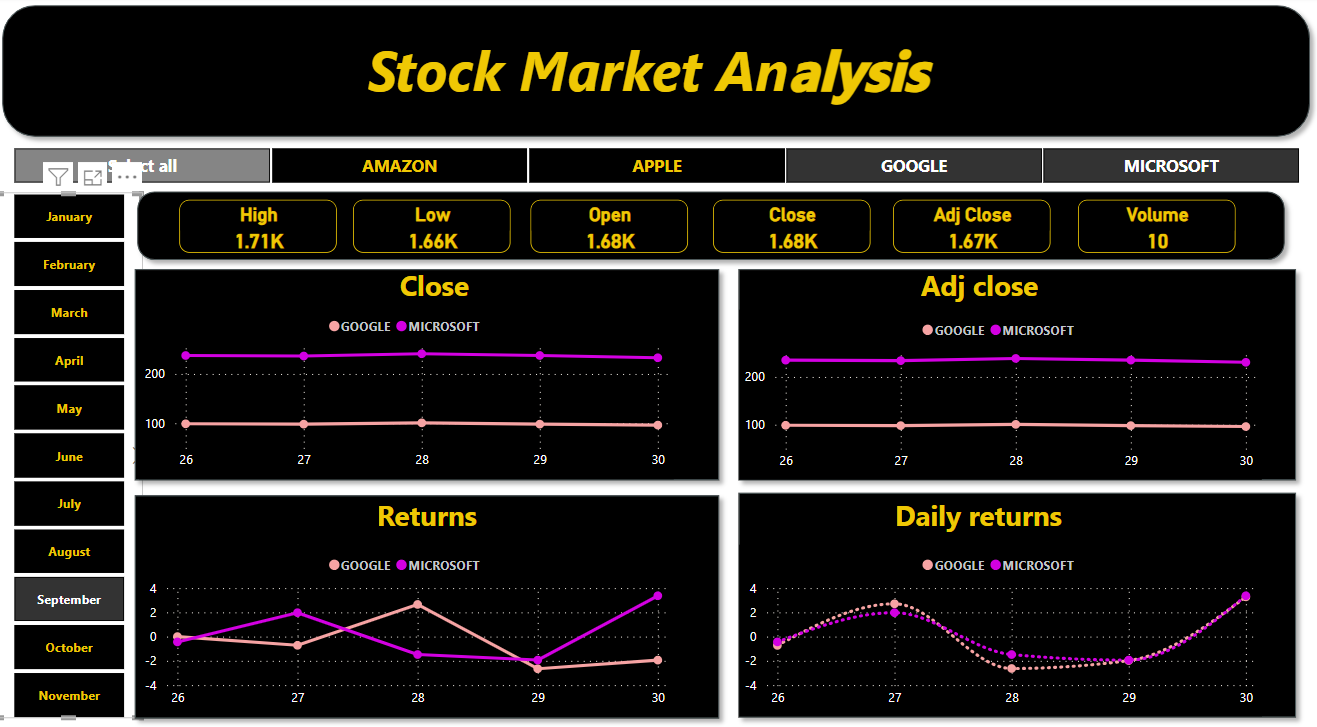

The dashboard page shown, as its layout file describes it:
{"tool":"powerbi","page":{"name":"Page 2","canvas":[1280,720],"ordinal":0},"visuals":[{"type":"shape","box":[0,0,1280,145],"z":0},{"type":"slicer","fields":{"Values":["Table1.company_name"]},"box":[0,145,1279,37.5],"z":1000},{"type":"slicer","fields":{"Values":["Table1.Date.Variation.Date Hierarchy.Month"]},"box":[0,189,145,508],"z":2000},{"type":"shape","box":[128.2,254.9,581.8,221.8],"z":3000},{"type":"textbox","box":[171,28.9,921.1,105.4],"z":4000},{"type":"lineChart","fields":{"Y":["Sum(Table1 (2).Close)"],"Series":["Table1 (2).company_name"],"Category":["Table1 (2).Date.Variation.Date Hierarchy.Day"]},"box":[141.1,299.5,515.5,167],"z":5000},{"type":"textbox","box":[270,256,311,46.1],"z":6000},{"type":"shape","box":[709.9,254.9,555.8,221.8],"z":7000},{"type":"textbox","box":[819.4,256,273,46.1],"z":8000},{"type":"shape","box":[709.9,470.9,555.8,234.7],"z":9000},{"type":"textbox","box":[819.4,477,256.3,46.1],"z":10000},{"type":"lineChart","fields":{"Y":["Sum(Table1 (2).Daily Return)"],"Series":["Table1 (2).company_name"],"Category":["Table1 (2).Date.Variation.Date Hierarchy.Day"]},"box":[720,529.9,504,165.6],"z":11000},{"type":"lineChart","fields":{"Y":["Sum(Table1 (2).Adj Close)"],"Series":["Table1 (2).company_name"],"Category":["Table1 (2).Date.Variation.Date Hierarchy.Day"]},"box":[720,302.4,504,164.2],"z":12000},{"type":"shape","box":[130,180,1125,84],"z":13000},{"type":"card","title":"High","fields":{"Values":["Sum(Table1 (2).High)"]},"box":[180,196,152,51],"z":14000},{"type":"shape","box":[128.2,472.3,581.8,233.3],"z":15000},{"type":"textbox","box":[270.7,477,296.6,46.1],"z":16000},{"type":"lineChart","fields":{"Y":["Sum(Table1 (2).returns)"],"Series":["Table1 (2).company_name"],"Category":["Table1 (2).Date.Variation.Date Hierarchy.Day"]},"box":[141.1,529.9,515.5,165.6],"z":17000},{"type":"card","title":"Low","fields":{"Values":["Sum(Table1 (2).Low)"]},"box":[347,196,152,51],"z":18000},{"type":"card","title":"Open","fields":{"Values":["Sum(Table1 (2).Open)"]},"box":[518.4,196,152,51],"z":19000},{"type":"card","title":"Close","fields":{"Values":["Sum(Table1 (2).Close)"]},"box":[694.1,196,152,51],"z":20000},{"type":"card","title":"Adj Close","fields":{"Values":["Sum(Table1 (2).Adj Close)"]},"box":[868.3,196,152,51],"z":21000},{"type":"card","title":"Volume","fields":{"Values":["CountNonNull(Table1 (2).Volume)"]},"box":[1046.9,196,152,51],"z":22000}]}

Visuals, with their boxes on the page's 1280x720 design canvas (x1, y1, x2, y2). These are canvas units, not pixel positions in the 1317x727 screenshot, which may show the page scaled, cropped or inside an application window:
shape: l=0, t=0, r=1280, b=145
slicer - Table1.company_name: l=0, t=145, r=1279, b=182
slicer - Table1.Date.Variation.Date Hierarchy.Month: l=0, t=189, r=145, b=697
shape: l=128, t=255, r=710, b=477
textbox: l=171, t=29, r=1092, b=134
lineChart - Sum(Table1 (2).Close) x Table1 (2).company_name: l=141, t=300, r=657, b=466
textbox: l=270, t=256, r=581, b=302
shape: l=710, t=255, r=1266, b=477
textbox: l=819, t=256, r=1092, b=302
shape: l=710, t=471, r=1266, b=706
textbox: l=819, t=477, r=1076, b=523
lineChart - Sum(Table1 (2).Daily Return) x Table1 (2).company_name: l=720, t=530, r=1224, b=696
lineChart - Sum(Table1 (2).Adj Close) x Table1 (2).company_name: l=720, t=302, r=1224, b=467
shape: l=130, t=180, r=1255, b=264
"High" card: l=180, t=196, r=332, b=247
shape: l=128, t=472, r=710, b=706
textbox: l=271, t=477, r=567, b=523
lineChart - Sum(Table1 (2).returns) x Table1 (2).company_name: l=141, t=530, r=657, b=696
"Low" card: l=347, t=196, r=499, b=247
"Open" card: l=518, t=196, r=670, b=247
"Close" card: l=694, t=196, r=846, b=247
"Adj Close" card: l=868, t=196, r=1020, b=247
"Volume" card: l=1047, t=196, r=1199, b=247
